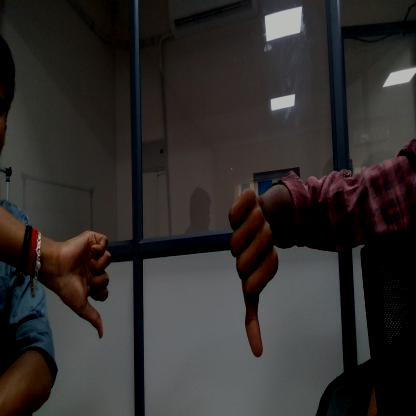Thumbs Down: (225, 190, 280, 358), (70, 224, 112, 352)
